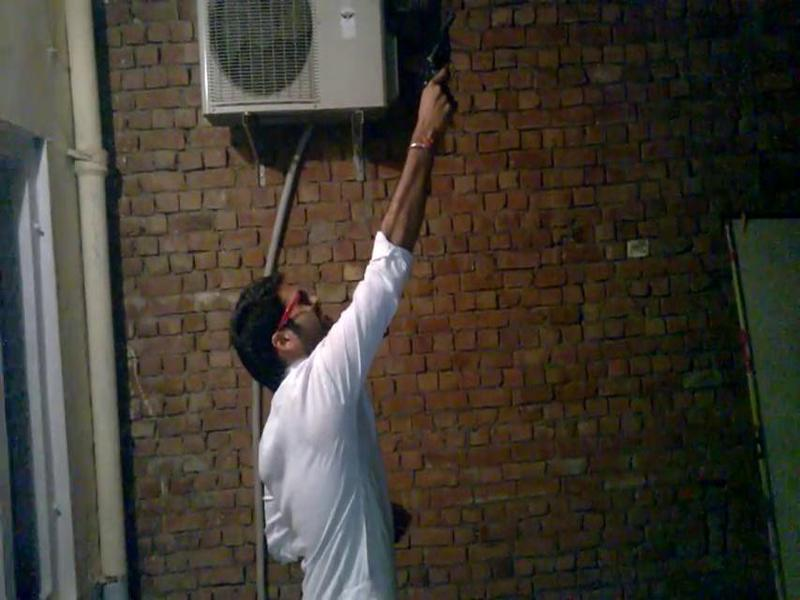Revolver: (419, 10, 470, 124)
